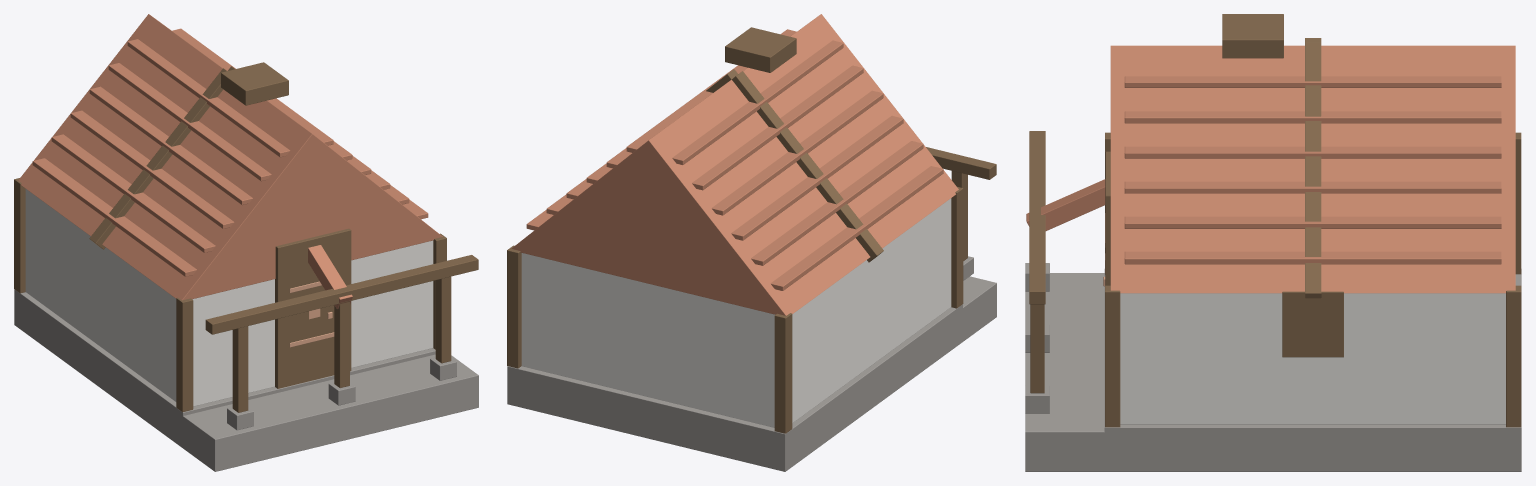
Rendered from House_Chalco_a.glb.
3 views of the same model, side by side, from view 1: azimuth 30°, elevation 25°; view 2: azimuth 150°, elevation 25°; view 3: azimuth 270°, elevation 25° (orthographic). The views are drawn at different scales.
Visible parts, largest first — view 1: House_Chalco_a; view 2: House_Chalco_a; view 3: House_Chalco_a.
Part boxes in pixels (x1,y1,x2,y2): House_Chalco_a: [14, 14, 478, 471]; House_Chalco_a: [507, 14, 996, 471]; House_Chalco_a: [1025, 14, 1521, 471].
Size of what is drawn, in the model's own units: 3.83 by 3.92 by 4.83.
